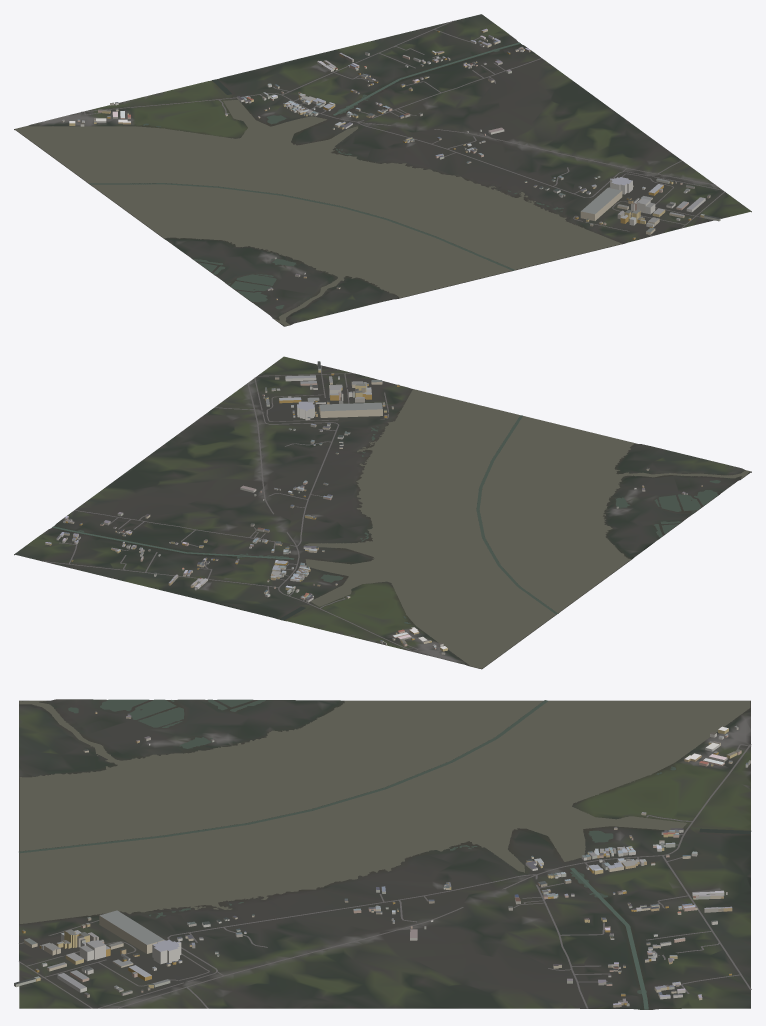
3 renders of one model, top to bottom at view 1: azimuth 30°, elevation 25°; view 2: azimuth 150°, elevation 25°; view 3: azimuth 270°, elevation 25°, orthographic. The views are drawn at different scales.
Visible parts, largest first — view 1: ground, water, buildings, roads; view 2: ground, water, buildings, roads; view 3: ground, water, buildings, roads.
Part boxes in pixels (x1,y1,x2,y2): ground: (14,14,751,326); water: (15,42,621,325); buildings: (61,28,720,299); roads: (81,21,724,235); ground: (14,356,751,669); water: (52,389,750,668); buildings: (45,361,702,654); roads: (42,365,418,652); ground: (19,699,750,1009); water: (19,699,751,1009); buildings: (14,711,750,1007); roads: (19,744,751,1008).
Size of the model in its own units: 1404 by 32.7 by 1412.
